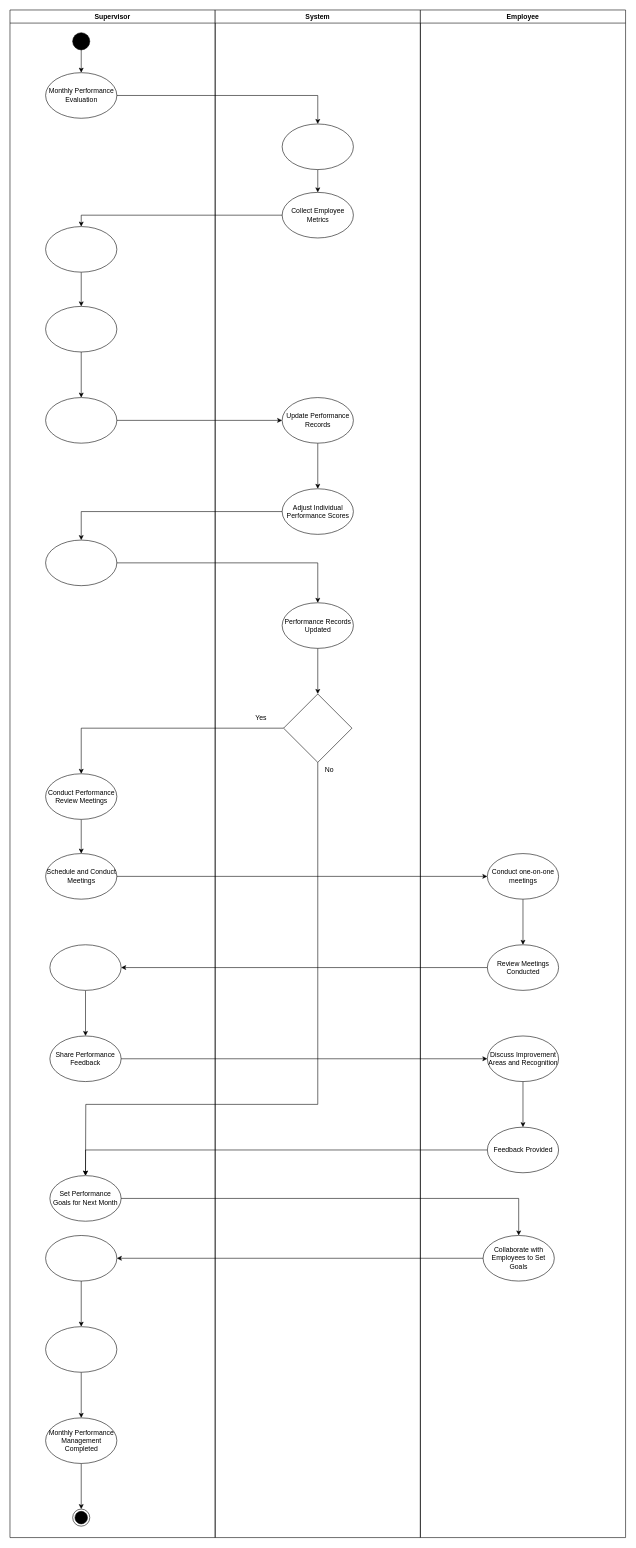
Image size: 636x1548. Some labels were removed from this diagram. Each missing label, with the centre of its shape:
Align Goals with Organizational Objectives: the point at 81,1258
Assess Individual and Team Achievements: the point at 81,249
Employee Metrics Collected: the point at 81,420
Evaluate Employee Behavior and Competencies: the point at 81,329
Gather Employee Performance Data: the point at 317,146
Goals Set for Next Month: the point at 81,1349
Provide Feedback to Employees: the point at 85,967
Score below threshold?: the point at 317,727
Update Employee Development Plans: the point at 81,563
